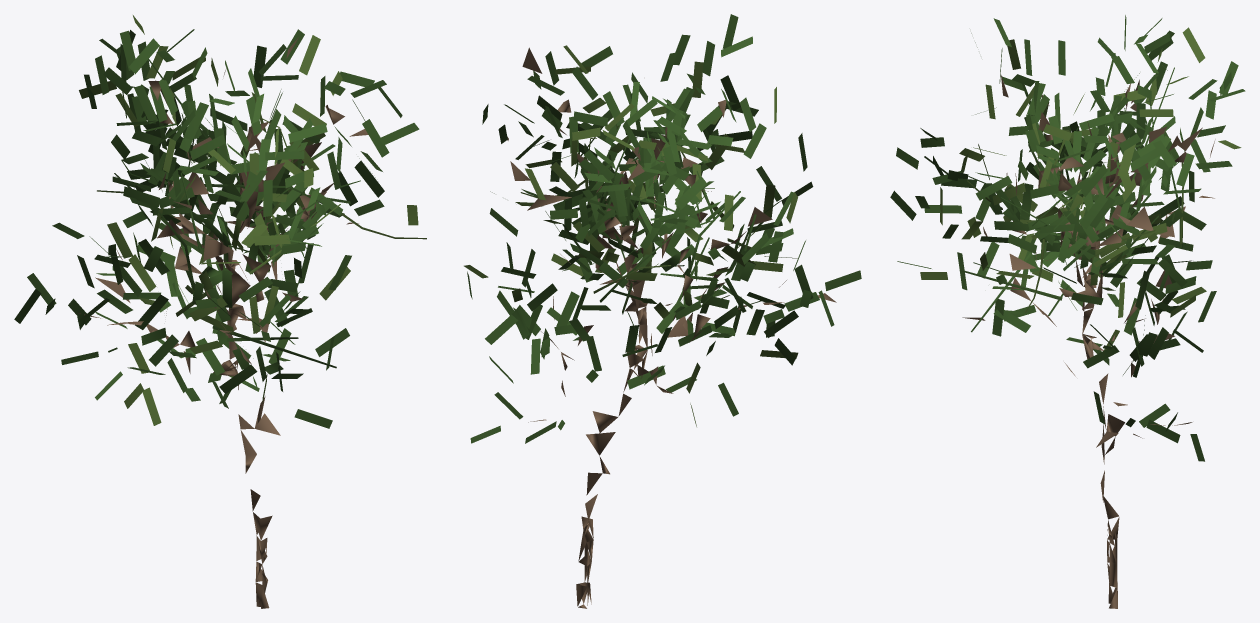
File: arvore_4_longe.glb
3 renders of one model, left to right at view 1: azimuth 30°, elevation 25°; view 2: azimuth 150°, elevation 25°; view 3: azimuth 270°, elevation 25°, orthographic. The views are drawn at different scales.
Parts seen in each view (by area): view 1: arvore_4_longe; view 2: arvore_4_longe; view 3: arvore_4_longe.
Part boxes in pixels (x1,y1,x2,y2): arvore_4_longe: (14,15,426,608); arvore_4_longe: (464,14,861,608); arvore_4_longe: (890,15,1245,608).
Bounding box in the file's own units: 2.12 × 3.16 × 1.88.
